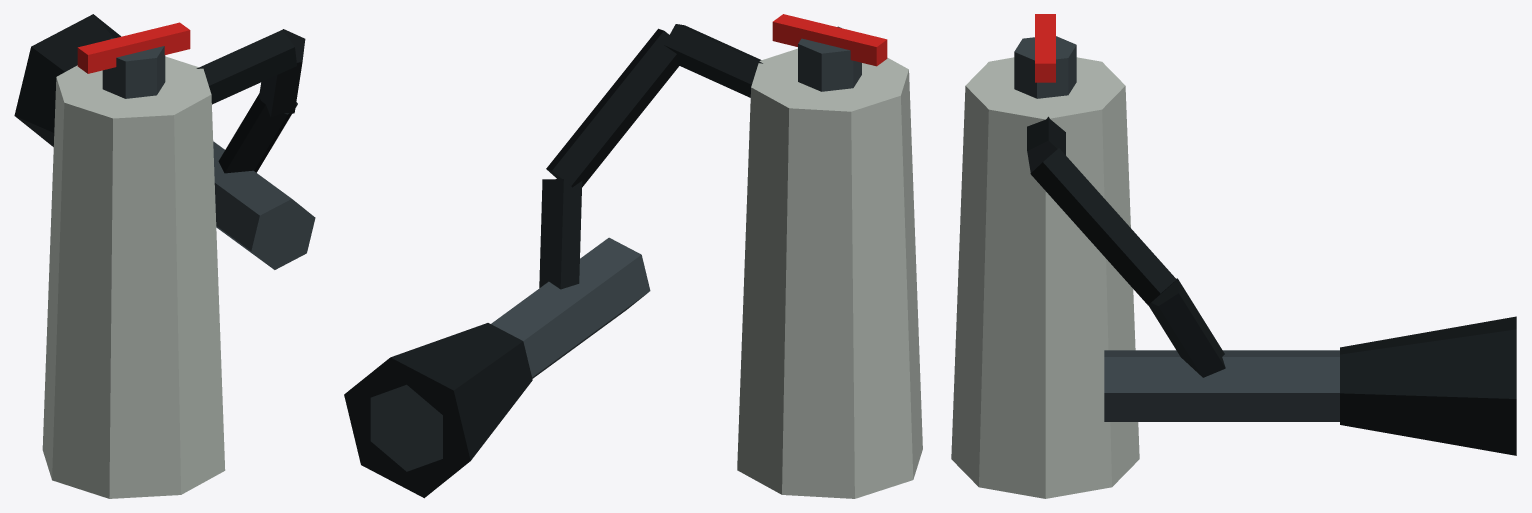
3 views of the same model, side by side, from view 1: azimuth 30°, elevation 25°; view 2: azimuth 150°, elevation 25°; view 3: azimuth 270°, elevation 25° (orthographic). The views are drawn at different scales.
Parts seen in each view (by area): view 1: mount; view 2: mount; view 3: mount.
Part boxes in pixels (x1,y1,x2,y2): mount: [14, 14, 315, 498]; mount: [344, 14, 922, 498]; mount: [951, 14, 1516, 498].
Size of the model in its own units: 6.32 by 7.88 by 9.62.
